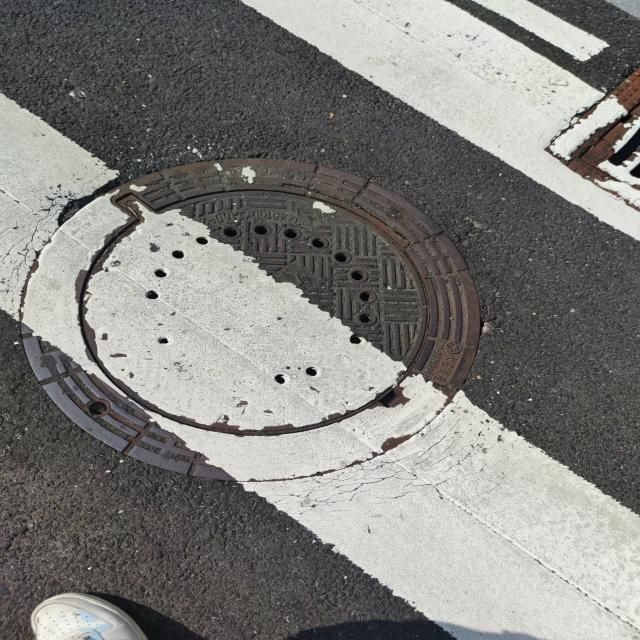Good: (14, 152, 497, 491)
